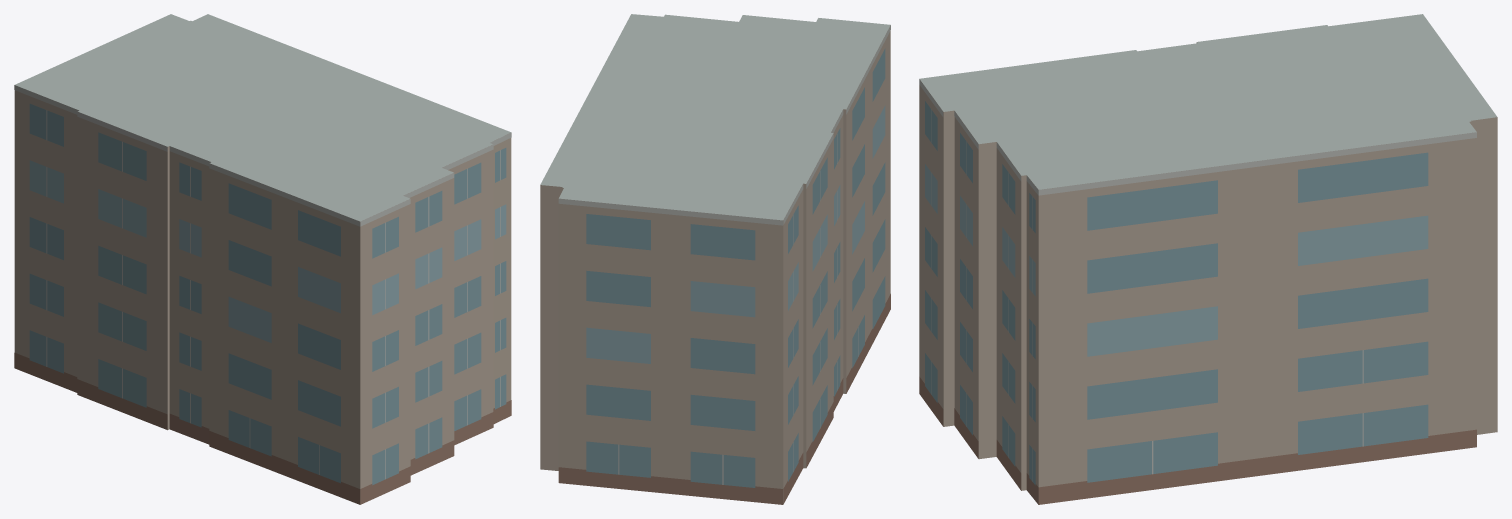
The model's file is survey-upis-32621528.glb.
3 views of the same model, side by side, from view 1: azimuth 30°, elevation 25°; view 2: azimuth 150°, elevation 25°; view 3: azimuth 270°, elevation 25° (orthographic). The views are drawn at different scales.
Visible parts, largest first — view 1: survey-upis-32621528.tmp; view 2: survey-upis-32621528.tmp; view 3: survey-upis-32621528.tmp.
Part boxes in pixels (box(x1,y1,x2,y2)): survey-upis-32621528.tmp: box(14, 14, 511, 504); survey-upis-32621528.tmp: box(540, 14, 890, 504); survey-upis-32621528.tmp: box(919, 14, 1497, 504).
Bounding box in the file's own units: 16.05 × 13.4 × 22.3.
